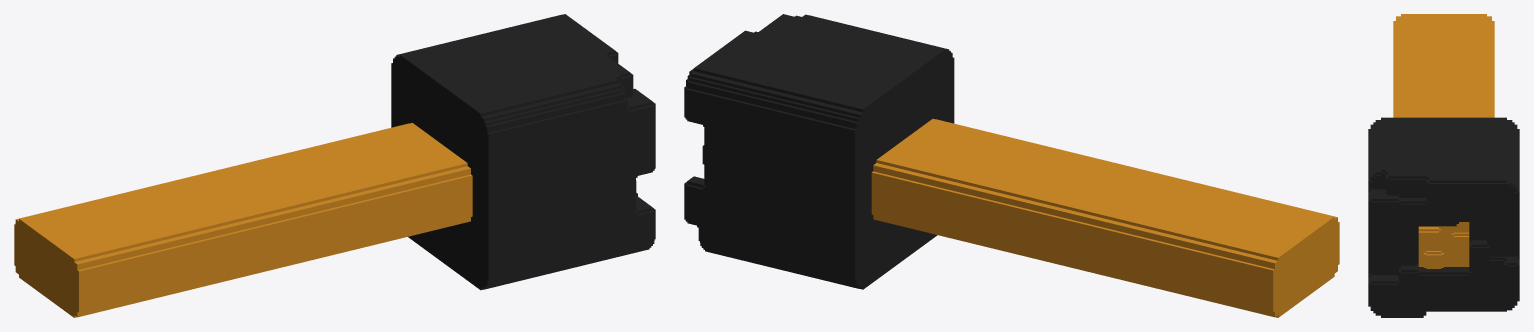
Rendered from GORODITH_seesaw-1.obj.
3 views of the same model, side by side, from view 1: azimuth 30°, elevation 25°; view 2: azimuth 150°, elevation 25°; view 3: azimuth 270°, elevation 25° (orthographic). The views are drawn at different scales.
Size of the model in its own units: 20 by 6 by 6.
1 material, 1 textured.
